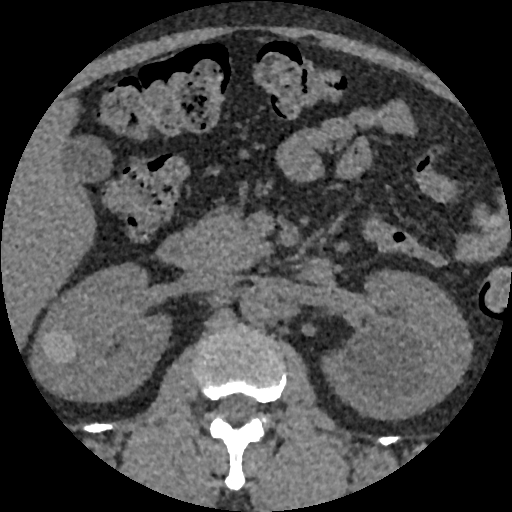Lesion: (37, 325, 79, 366)
